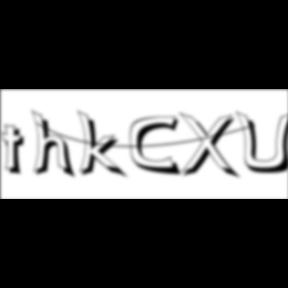C: (130, 115, 184, 178)
X: (179, 112, 243, 182)
h: (31, 108, 78, 182)
k: (78, 108, 130, 181)
t: (1, 124, 32, 179)
